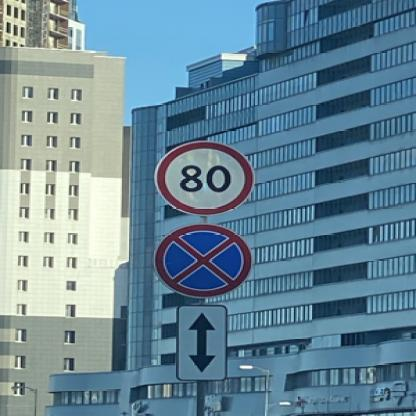Speed Limit 80: (157, 141, 252, 216)
